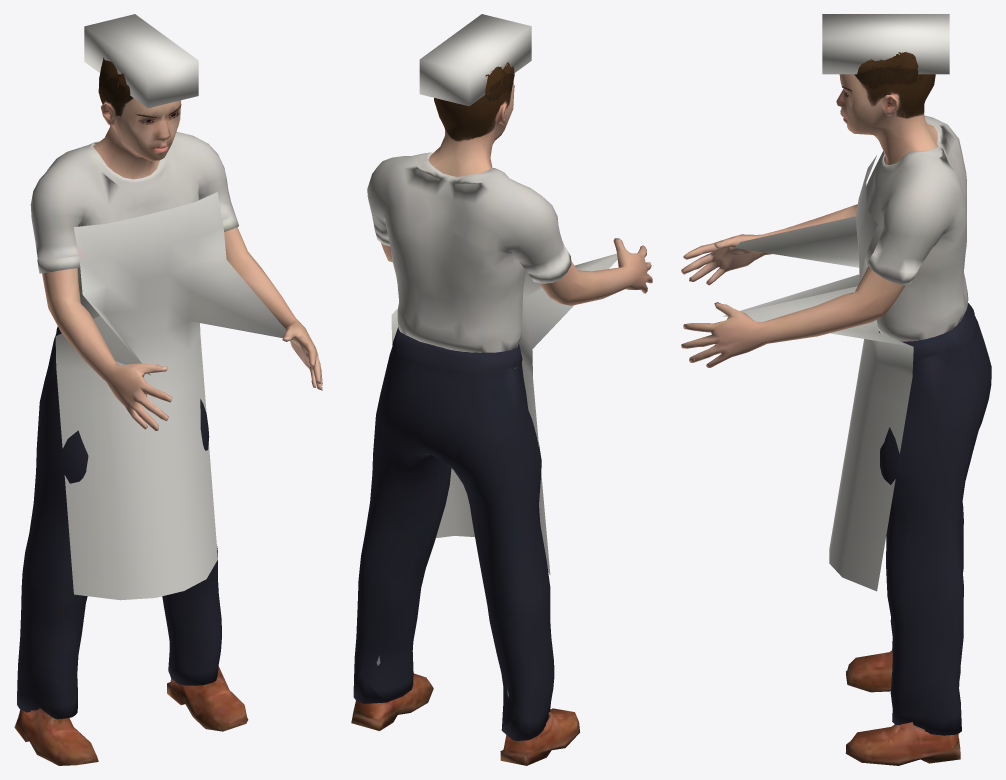
File: mq-vendor.glb
The picture shows the model from 3 angles, left to right: view 1: azimuth 30°, elevation 25°; view 2: azimuth 150°, elevation 25°; view 3: azimuth 270°, elevation 25°; orthographic projection. The views are drawn at different scales.
Parts seen in each view (by area): view 1: MQ_vendor; view 2: MQ_vendor; view 3: MQ_vendor.
Part boxes in pixels (x1=…): MQ_vendor: x1=14, y1=14, x2=322, y2=765; MQ_vendor: x1=351, y1=14, x2=652, y2=765; MQ_vendor: x1=681, y1=14, x2=991, y2=765.
Size of the model in its own units: 0.479 by 1.56 by 0.6351.
Materials: 1 (1 with a texture image).
